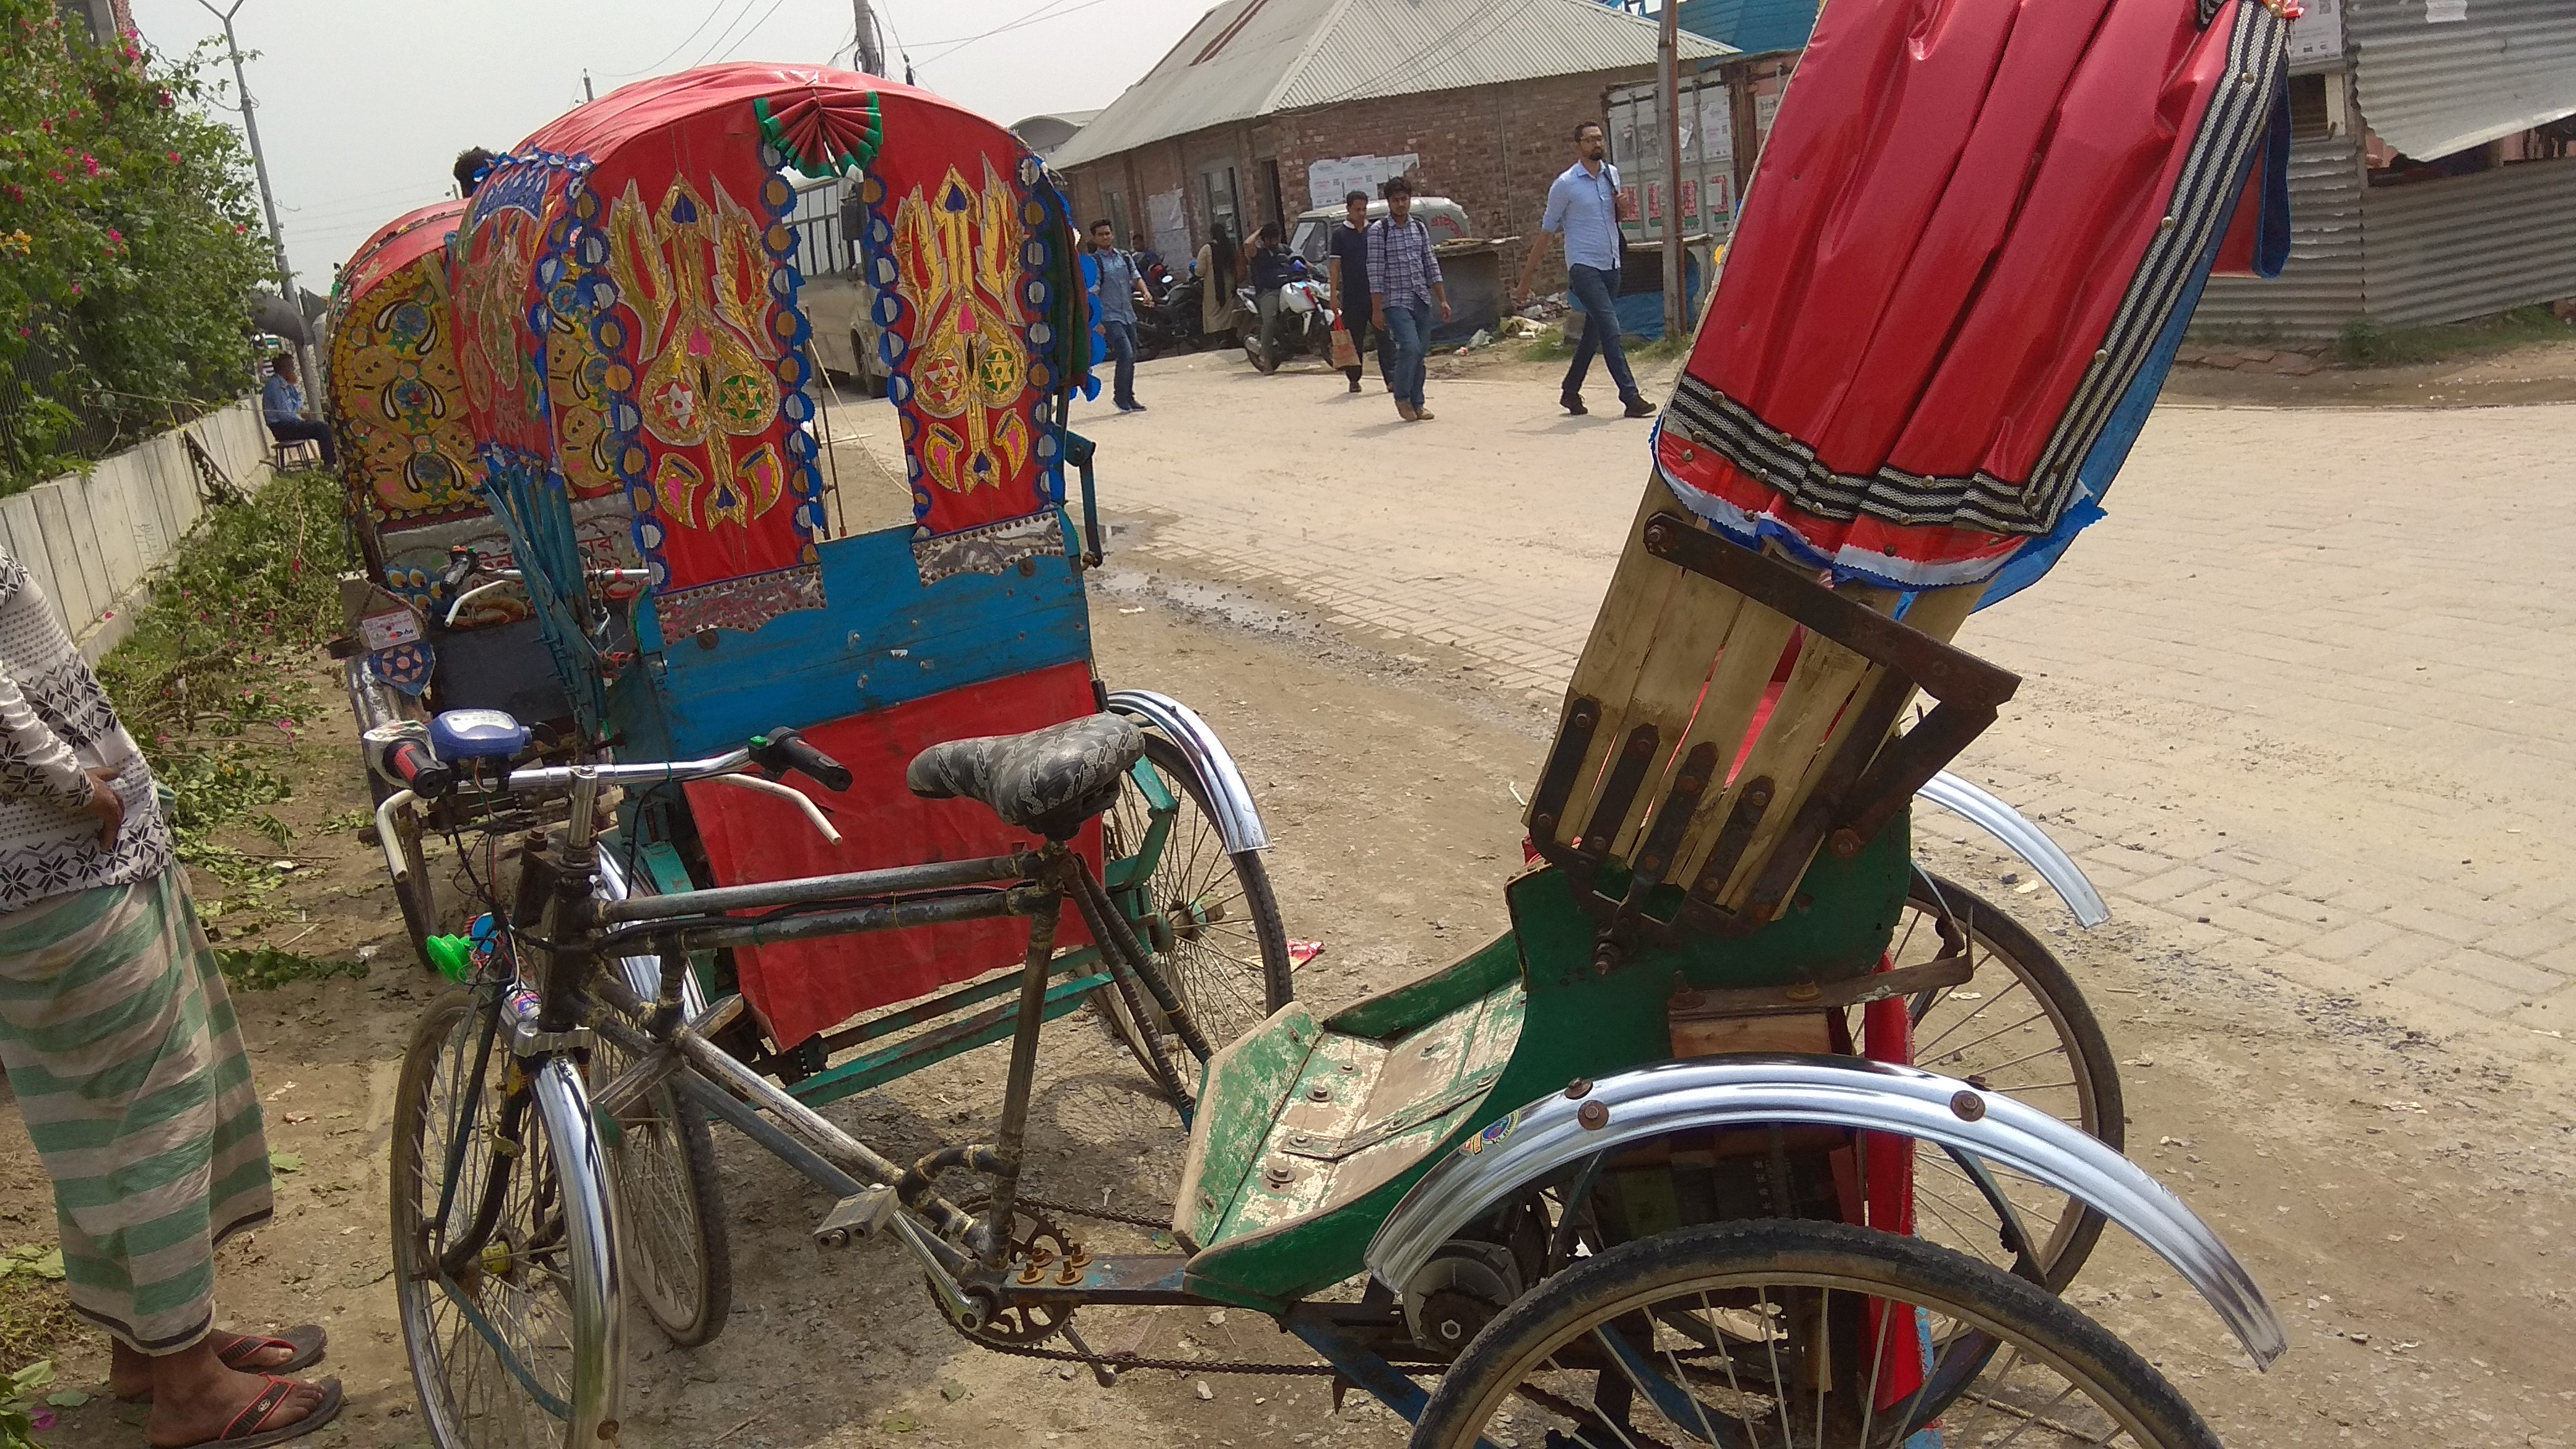Rickshaw: (1090, 4, 2286, 1440), (456, 50, 1306, 1207), (272, 134, 639, 934)
